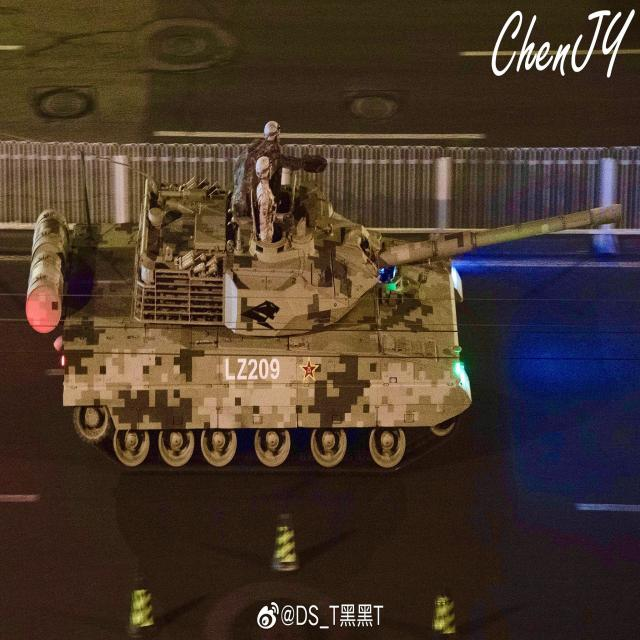tank: (24, 140, 623, 476)
